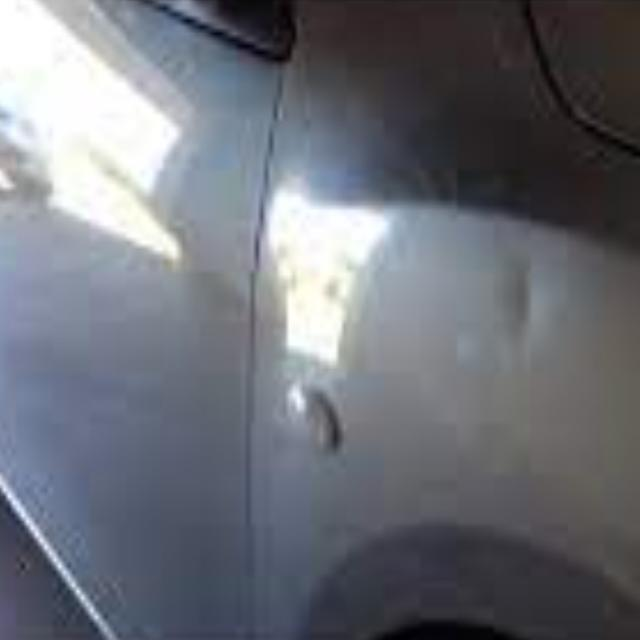dents: (486, 239, 588, 414)
